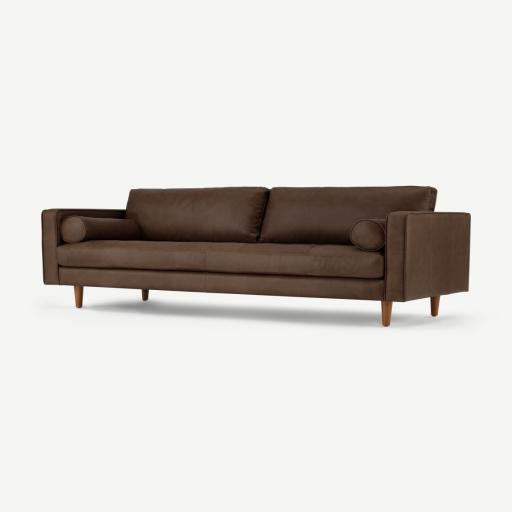back_cushion: (127, 187, 423, 244)
base: (60, 267, 383, 301)
left_arm: (384, 212, 470, 315)
legs: (382, 301, 392, 326), (74, 286, 83, 308), (431, 297, 439, 315), (142, 289, 148, 300)
right_arm: (42, 209, 124, 284)
seat_cushion: (57, 240, 383, 278)
two-seater: (0, 0, 511, 512)
